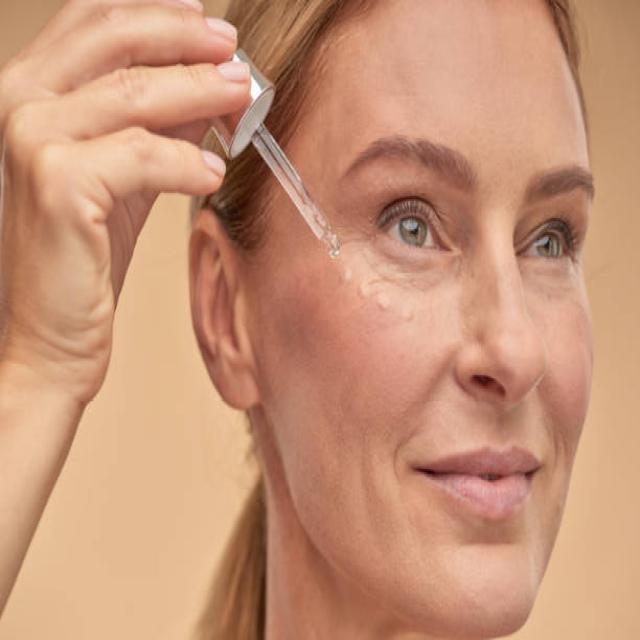Dry-Skin: (276, 273, 420, 508)
